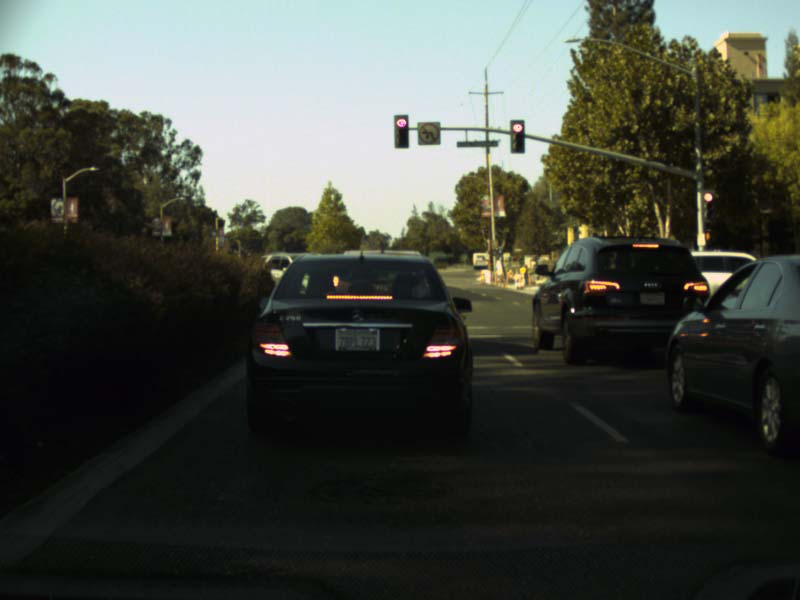Red: (701, 189, 716, 224), (510, 119, 524, 152), (394, 114, 408, 147)
